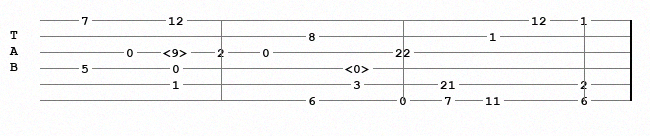0: (126, 46, 138, 58), (172, 62, 184, 74), (262, 46, 274, 58), (399, 94, 411, 106)
1: (172, 78, 184, 90), (489, 30, 501, 42), (580, 14, 592, 26)
11: (485, 94, 505, 106)
12: (168, 14, 188, 26), (531, 14, 551, 26)
2: (217, 46, 229, 58), (580, 78, 592, 90)
21: (440, 78, 460, 90)
22: (395, 46, 415, 58)
3: (353, 78, 365, 90)
5: (81, 62, 93, 74)
6: (308, 94, 320, 106), (580, 94, 592, 106)
7: (81, 14, 93, 26), (444, 94, 456, 106)
8: (308, 30, 320, 42)
harmonic: (163, 46, 192, 58), (345, 62, 374, 74)
